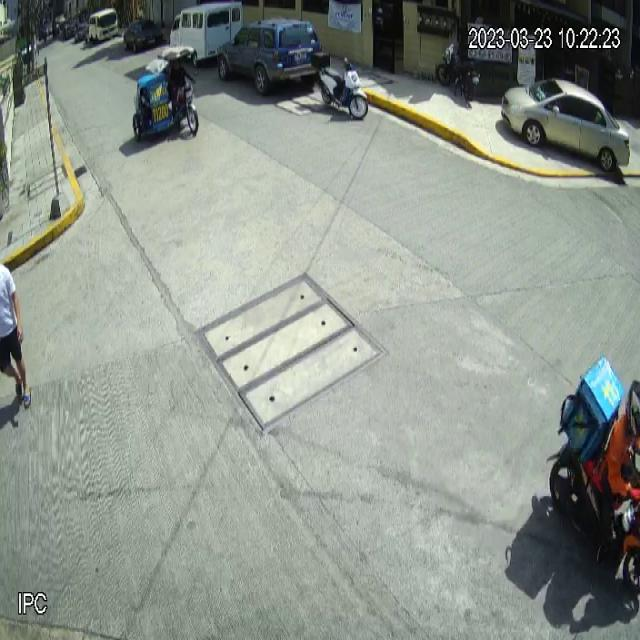Car: (502, 76, 630, 175), (218, 16, 323, 95)
Motorcycle: (549, 418, 640, 594), (312, 52, 369, 120)
Tricycle: (133, 46, 200, 139)
